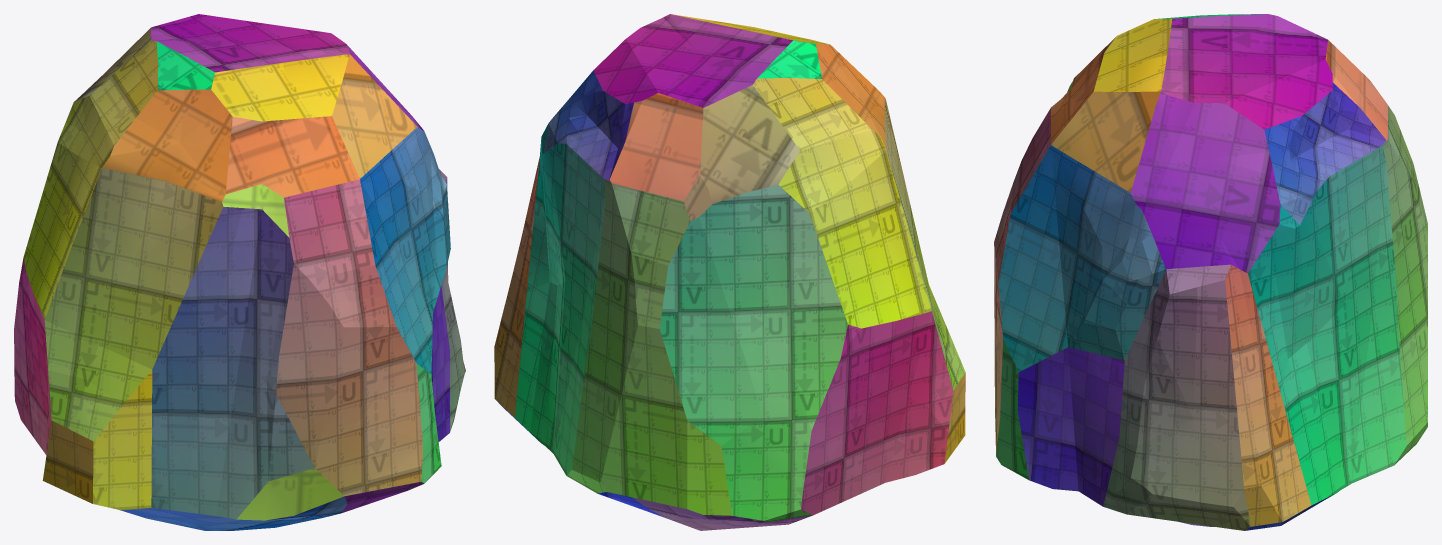
File: Rock2Redo_Hite.obj
The picture shows the model from 3 angles, left to right: view 1: azimuth 30°, elevation 25°; view 2: azimuth 150°, elevation 25°; view 3: azimuth 270°, elevation 25°; orthographic projection.
Visible parts, largest first — view 1: pCube1; view 2: pCube1; view 3: pCube1.
Part boxes in pixels (x1,y1,x2,y2): pCube1: (14,14,465,530); pCube1: (494,14,965,530); pCube1: (994,14,1427,530).
Bounding box in the file's own units: 19.15 × 20.06 × 16.88.
Materials: 1 (1 with a texture image).
